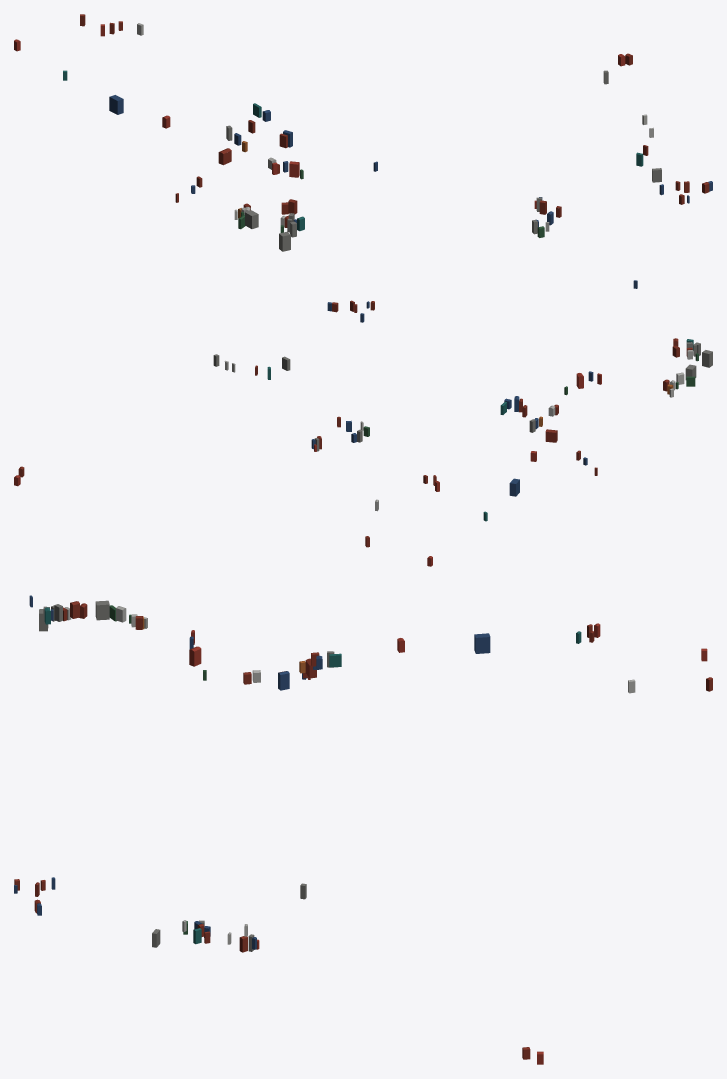
File: near-15-27354-14863.96918cf4.glb
3 views of the same model, one above another, from view 1: azimuth 30°, elevation 25°; view 2: azimuth 150°, elevation 25°; view 3: azimuth 270°, elevation 25° (orthographic). The views are drawn at different scales.
Bounding box in the file's own units: 1184 × 360 × 1091.
